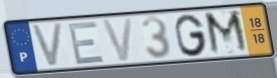3: (141, 14, 172, 62)
E: (66, 19, 106, 66)
G: (173, 13, 210, 59)
M: (202, 8, 252, 57)
V: (28, 21, 66, 69), (100, 16, 135, 63)
